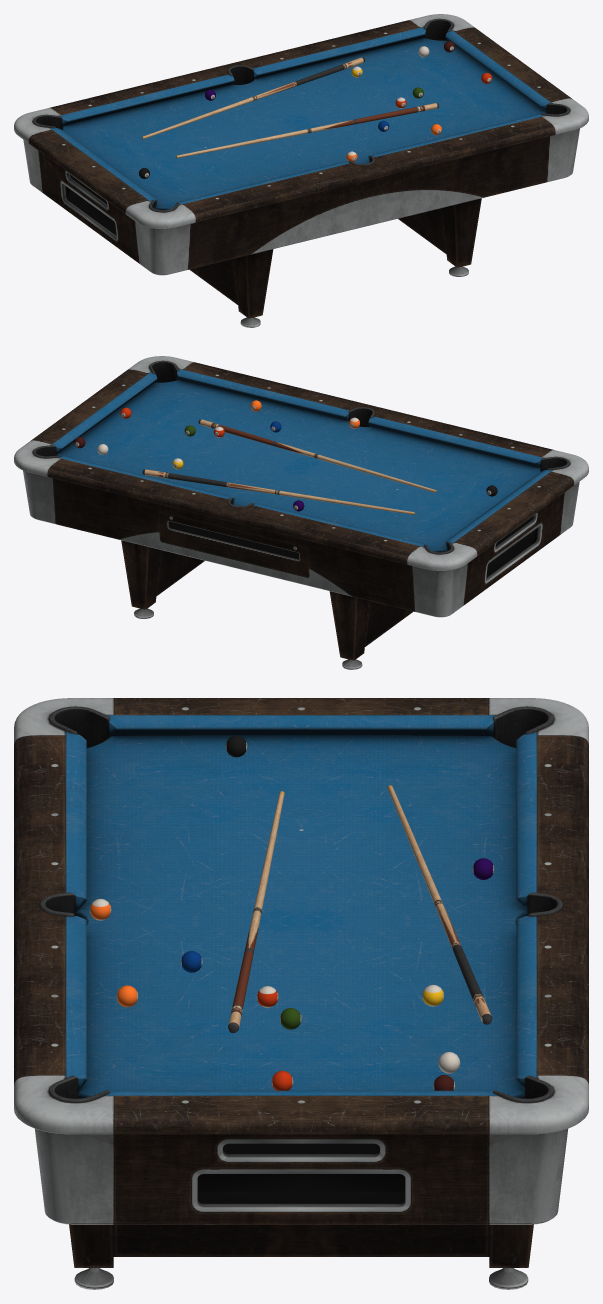
Rendered from tai.fbx.
3 views of the same model, one above another, from view 1: azimuth 30°, elevation 25°; view 2: azimuth 150°, elevation 25°; view 3: azimuth 270°, elevation 25° (orthographic). The views are drawn at different scales.
Visible parts, largest first — view 1: Pool_Table_01, Pool_Cue_Stand_01.014, Pool_Cue_Stand_01.016; view 2: Pool_Table_01, Pool_Cue_Stand_01.016, Pool_Cue_Stand_01.014; view 3: Pool_Table_01, Pool_Cue_Stand_01.016, Pool_Cue_Stand_01.014.
Part boxes in pixels (x1=…): Pool_Table_01: x1=14, y1=14, x2=588, y2=327; Pool_Cue_Stand_01.014: x1=176, y1=103, x2=439, y2=158; Pool_Cue_Stand_01.016: x1=141, y1=57, x2=364, y2=139; Pool_Table_01: x1=14, y1=356, x2=588, y2=669; Pool_Cue_Stand_01.016: x1=142, y1=469, x2=414, y2=514; Pool_Cue_Stand_01.014: x1=198, y1=419, x2=436, y2=492; Pool_Table_01: x1=14, y1=698, x2=588, y2=1289; Pool_Cue_Stand_01.016: x1=387, y1=785, x2=492, y2=1024; Pool_Cue_Stand_01.014: x1=228, y1=791, x2=284, y2=1033.
Bounding box in the file's own units: 262 × 81.23 × 150.
2 materials, 2 textured.
